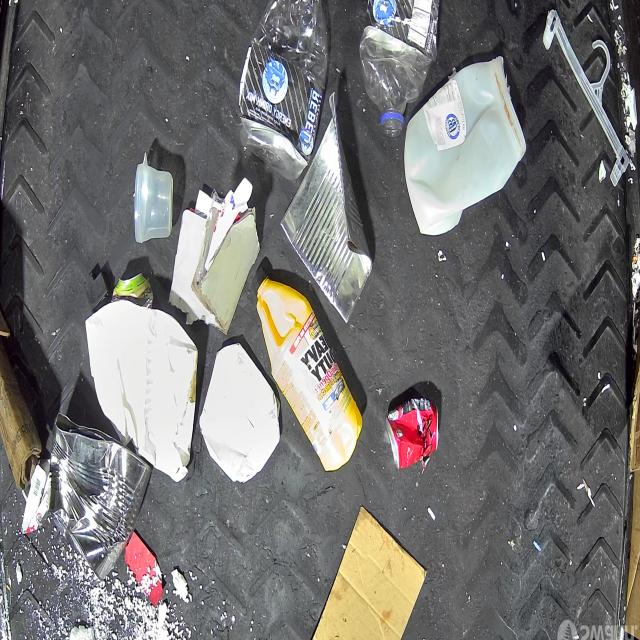can: (41, 408, 148, 581), (386, 398, 440, 472), (115, 274, 154, 306)
milk_jug: (404, 54, 526, 234)
non_white_jug: (252, 268, 360, 476)
plastic_bottle: (239, 0, 329, 183), (360, 0, 440, 136)
